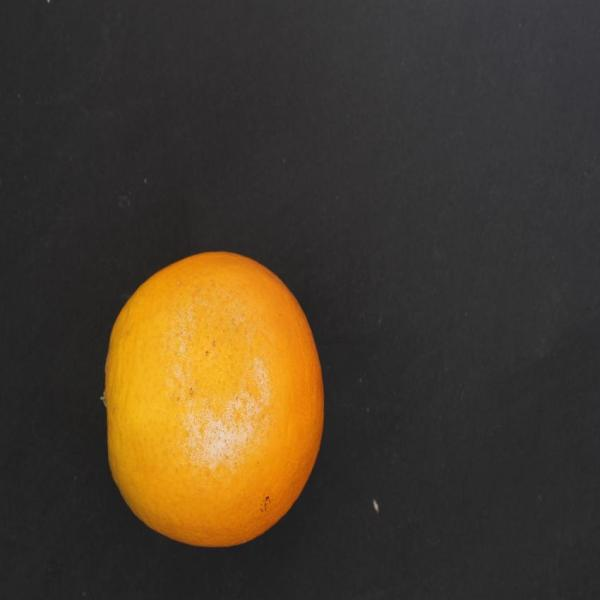Moho verde: (88, 237, 330, 550)
